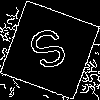S: (25, 25, 76, 81)
